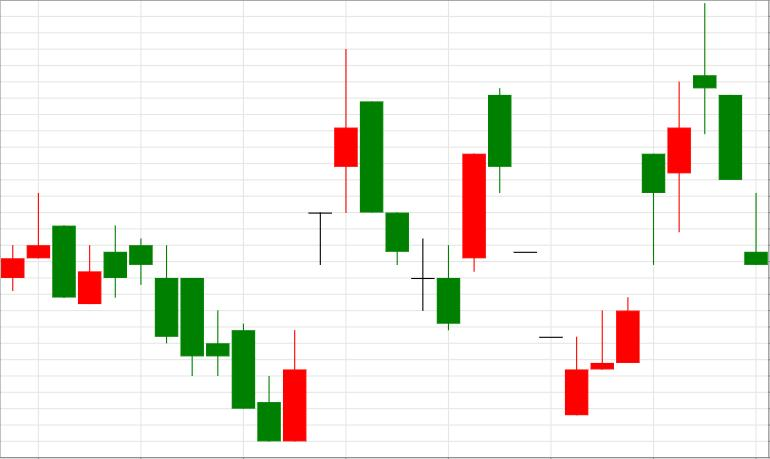bullish_engulfing_rise: (130, 239, 306, 441)
evening_star_fall: (565, 3, 742, 416)
hanging_man_fall: (565, 154, 665, 415)
